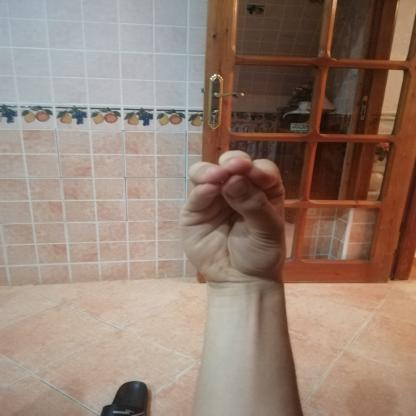HA: (159, 140, 317, 303)
